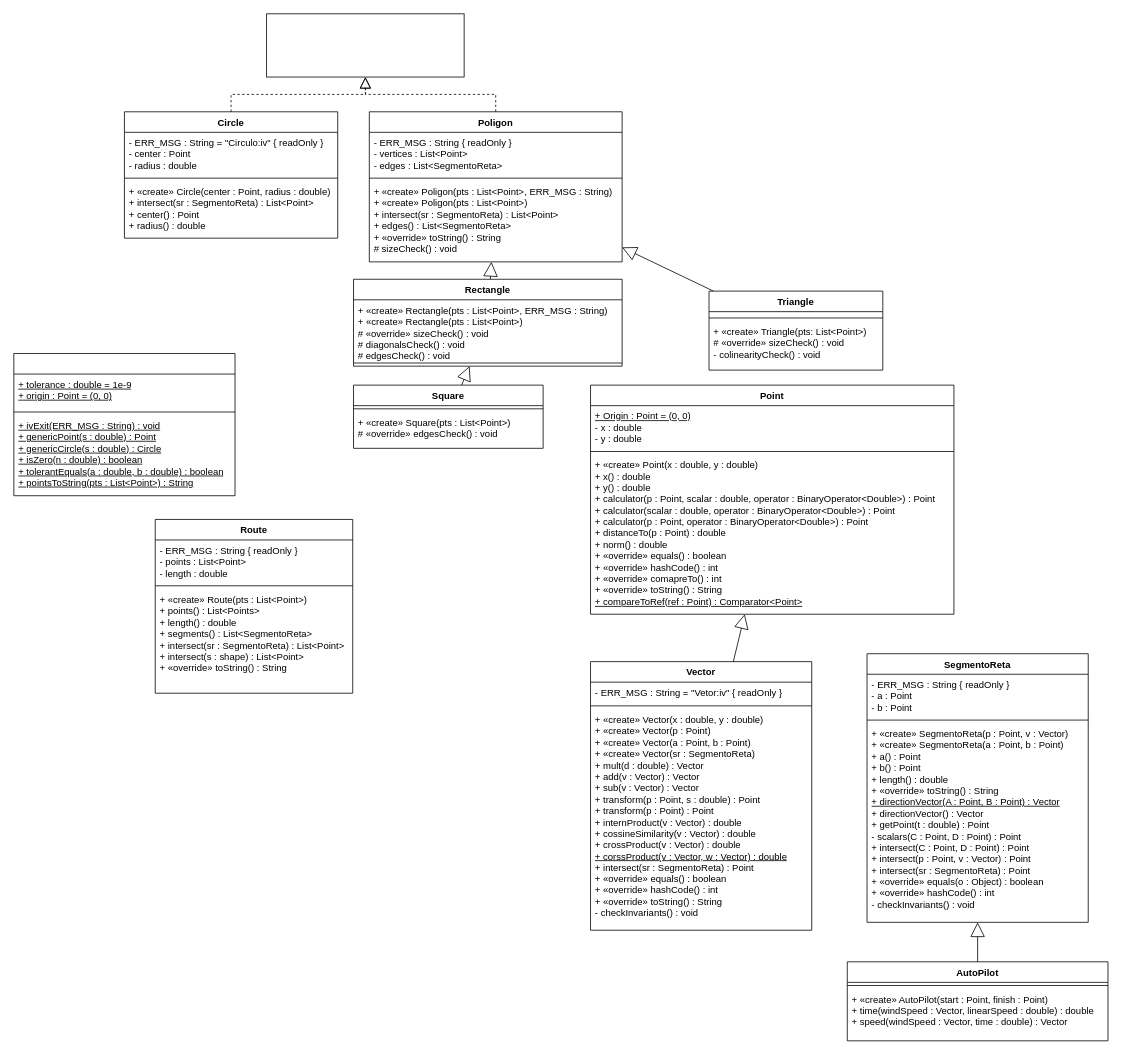
Image size: 1122x1057. Some labels were removed from this diagram. Here are the shapes that lost their labels. From the top down, the box of each, then its label:
(266, 13, 464, 77): <<Interface>> Shape + intersect(sr : SegmentoReta) : List<Point>
(13, 353, 235, 496): « Helper »
